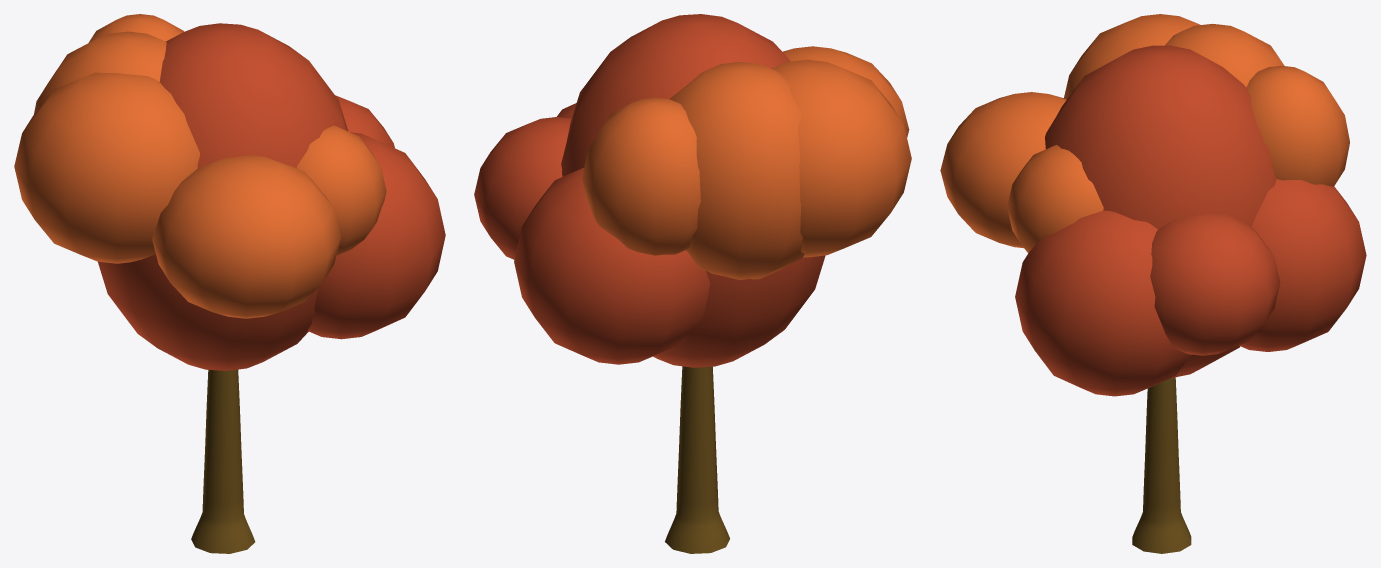
Rendered from maple_0.glb.
The picture shows the model from 3 angles, left to right: view 1: azimuth 30°, elevation 25°; view 2: azimuth 150°, elevation 25°; view 3: azimuth 270°, elevation 25°; orthographic projection. The views are drawn at different scales.
Parts seen in each view (by area): view 1: crown, trunk; view 2: crown, trunk; view 3: crown, trunk.
Part boxes in pixels (<box>): crown: <box>14,14,445,370</box>; trunk: <box>191,369,255,553</box>; crown: <box>474,14,911,367</box>; trunk: <box>665,366,729,553</box>; crown: <box>940,14,1366,396</box>; trunk: <box>1132,377,1191,553</box>.
Size of the model in its own units: 2.08 by 2.63 by 2.09.
